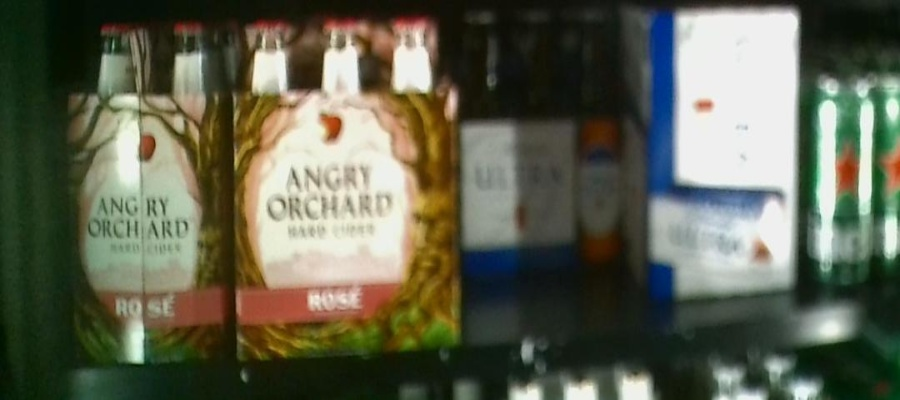bottle: (237, 18, 460, 357), (65, 20, 235, 364), (623, 6, 798, 298), (456, 10, 622, 265), (801, 73, 874, 286)
